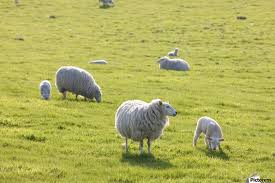sheep: (116, 99, 178, 158), (55, 65, 102, 104), (195, 117, 229, 154), (157, 55, 191, 76), (39, 80, 53, 102), (87, 58, 109, 68), (168, 49, 181, 59)
